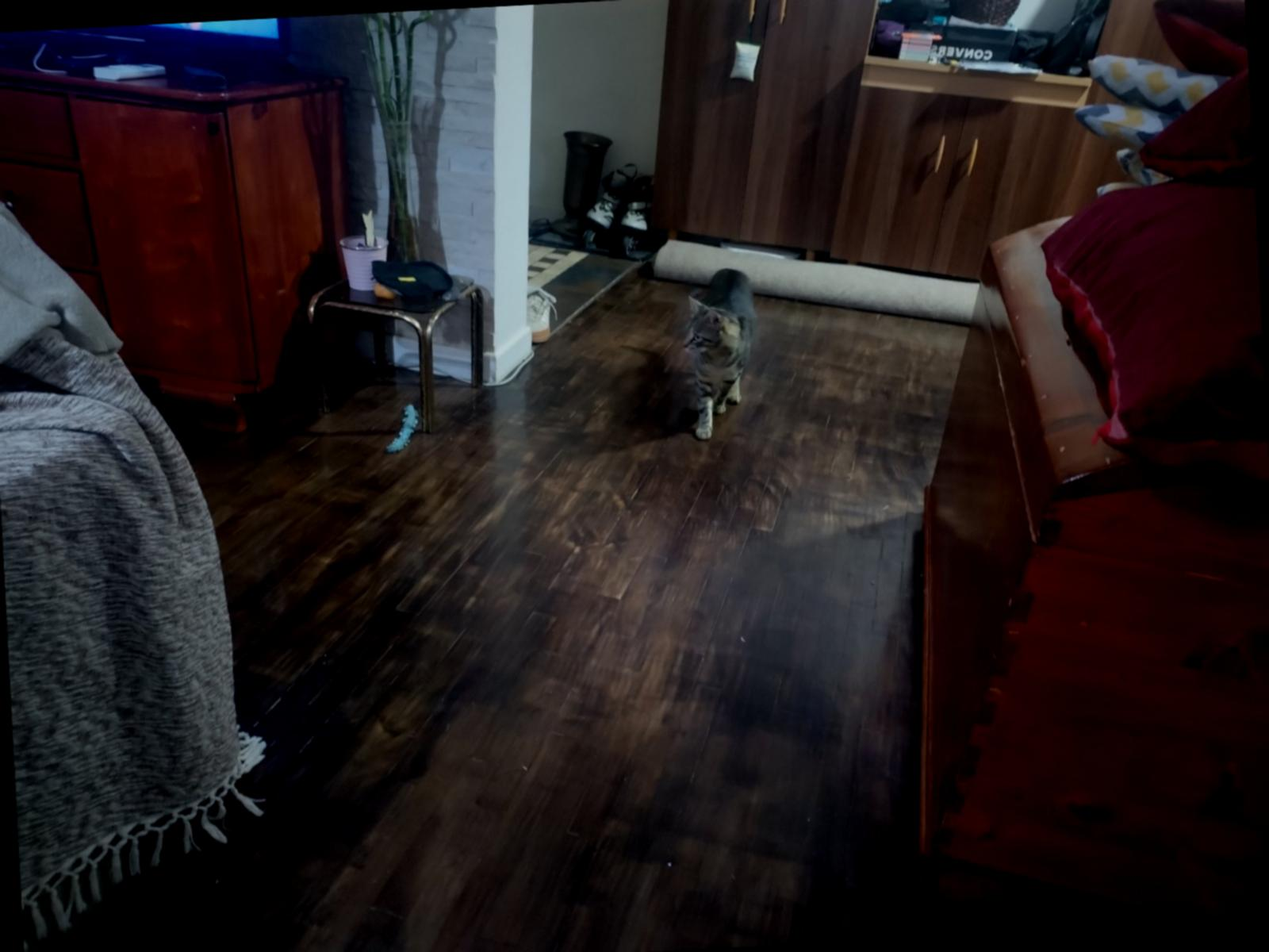macka: (669, 262, 767, 444)
